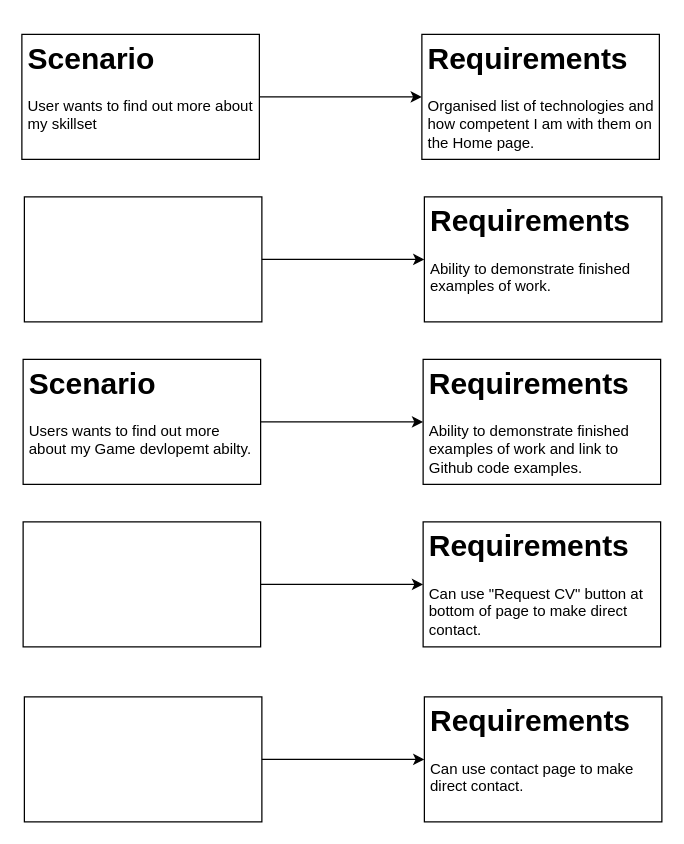
The diagram is 684 pixels wide and 844 high, and some of its shapes have lost their labels. The shapes that lost their labels are listed below. From the top down, each one's centre as x and y in pixels, then its label:
At (142,259): "Scenario Users wants to find out more about my CSM devlopemt abilty.".
At (141,584): "Scenario Recruiter wants a copy of my CV".
At (142,759): "Scenario Recruiter wants to make direct contact".
